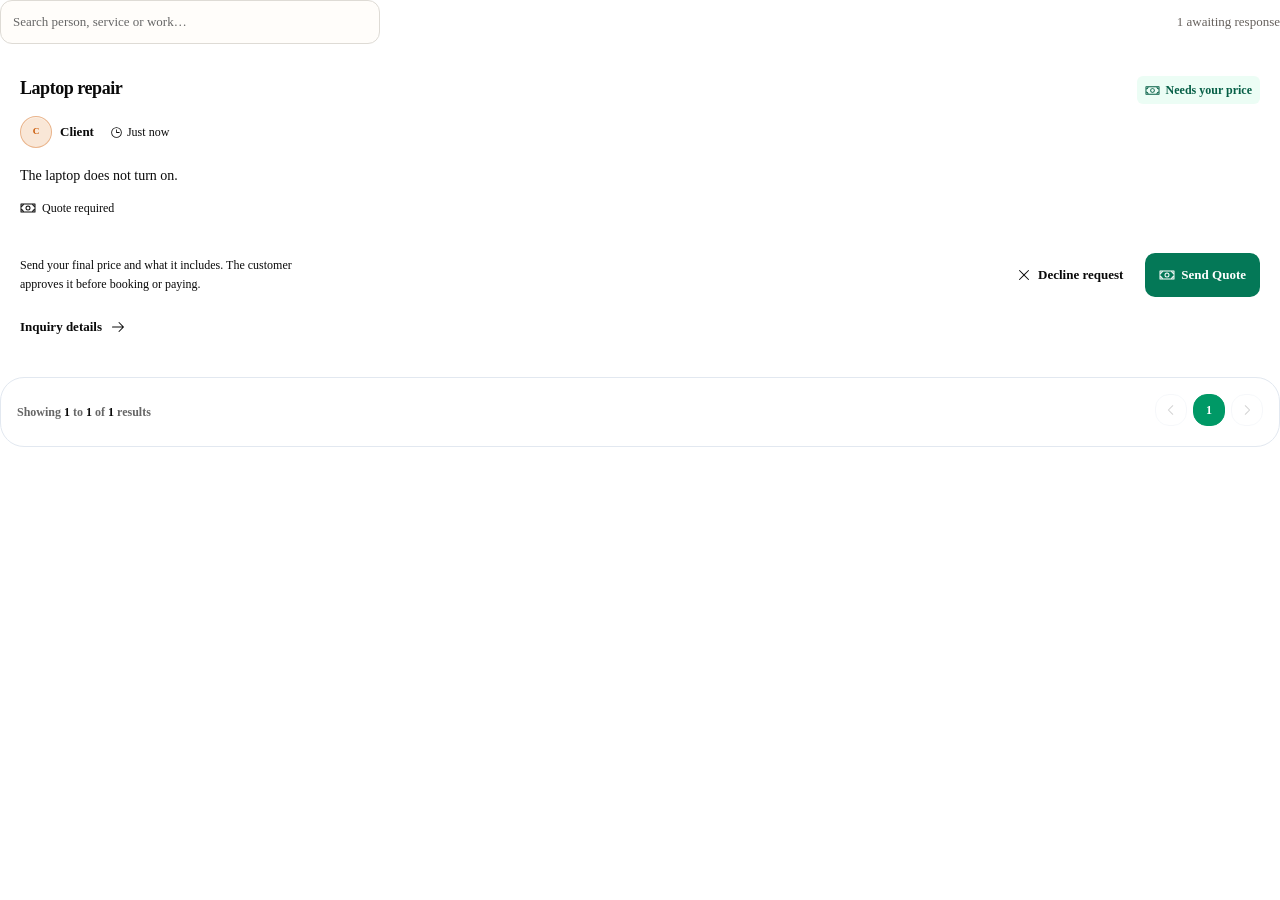
Scenario: provider incoming listing inquiries › sets the final price inside Requests and uses the existing offer action
This screenshot has width=1280, height=900.
Step 1. Click the button "Send Quote" → [1203, 275], box [1145, 253, 1260, 297]
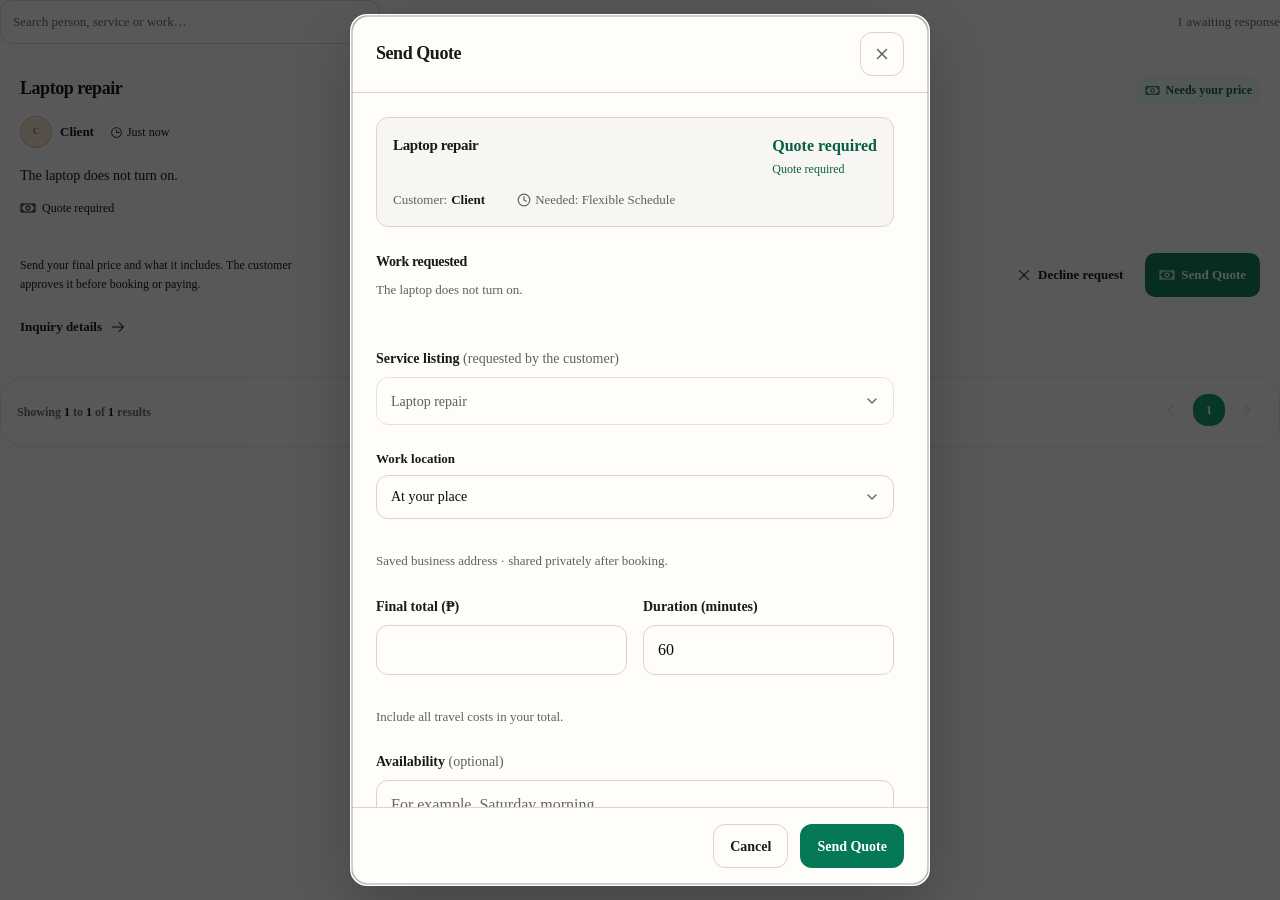
Expected: the dialog "Send Quote" shows "The laptop does not turn on.", [376, 282, 523, 296]
Step 2. Type "1250" into the number field labelled "Final total (₱)" → [502, 650], box [376, 625, 627, 675]
(page scrolled)
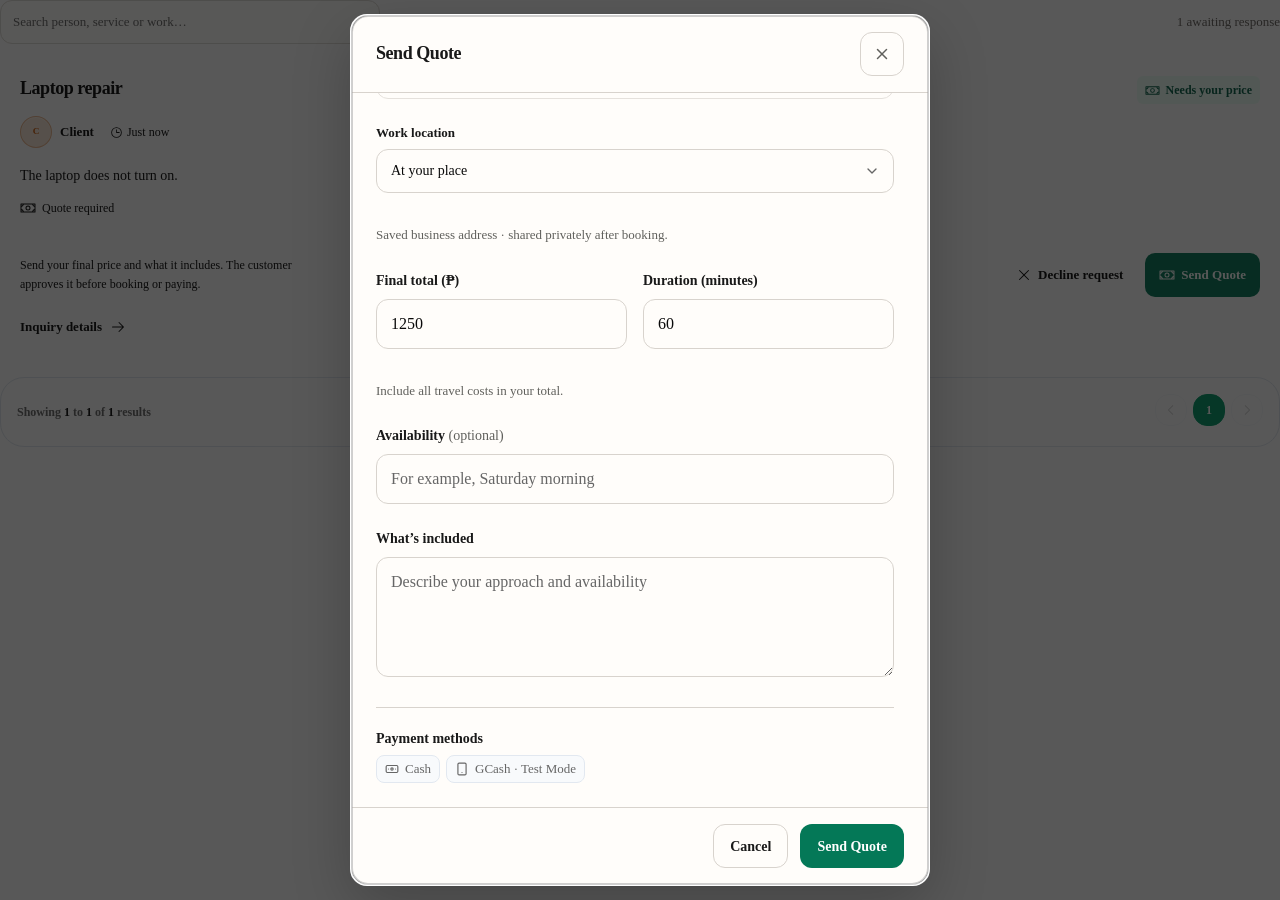
Step 3. Type "Charging port repair, including parts and labor." into the text box labelled "What’s included" → [635, 617], box [376, 557, 894, 677]
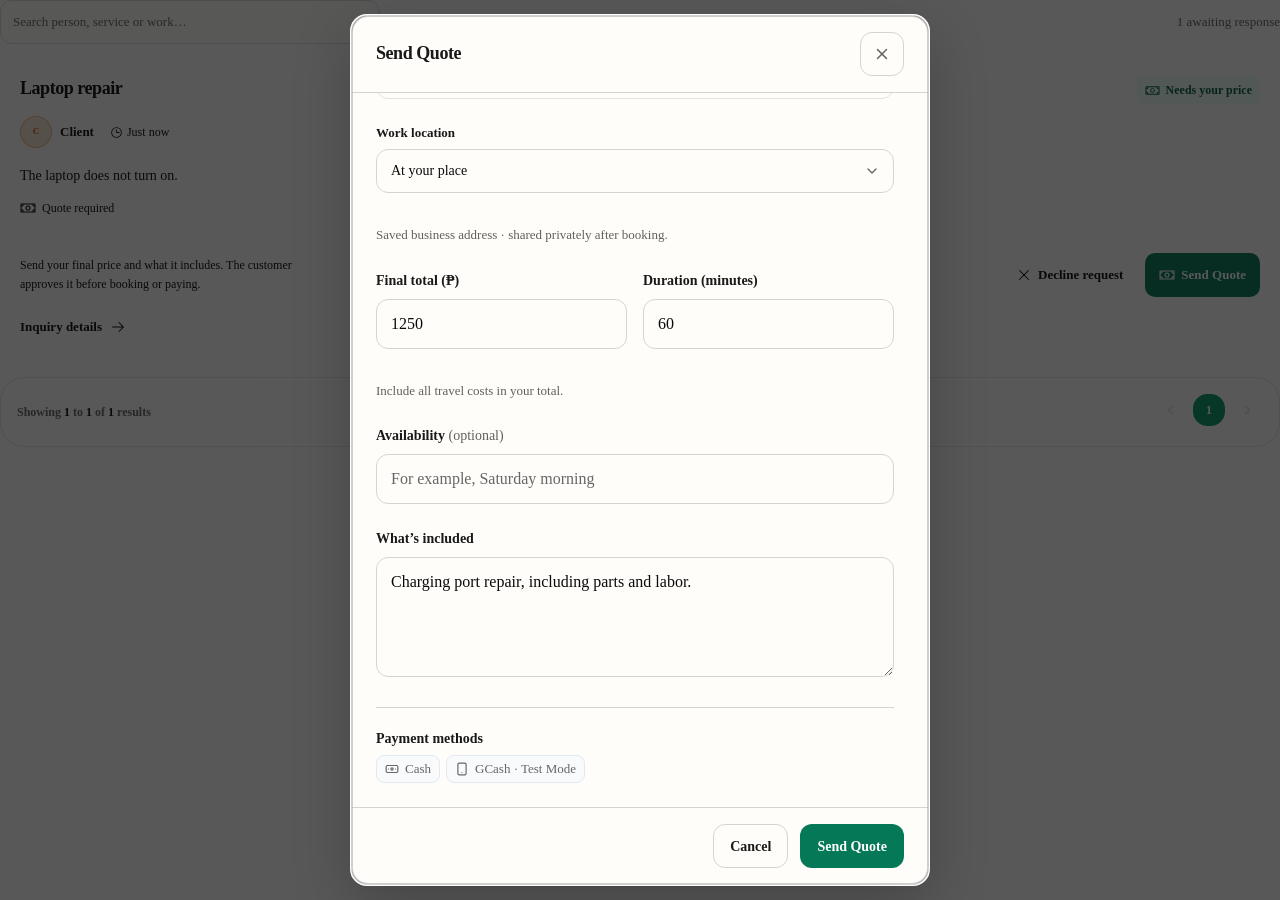
Step 4. Click the button "Send Quote" → [852, 846], box [800, 824, 904, 868]
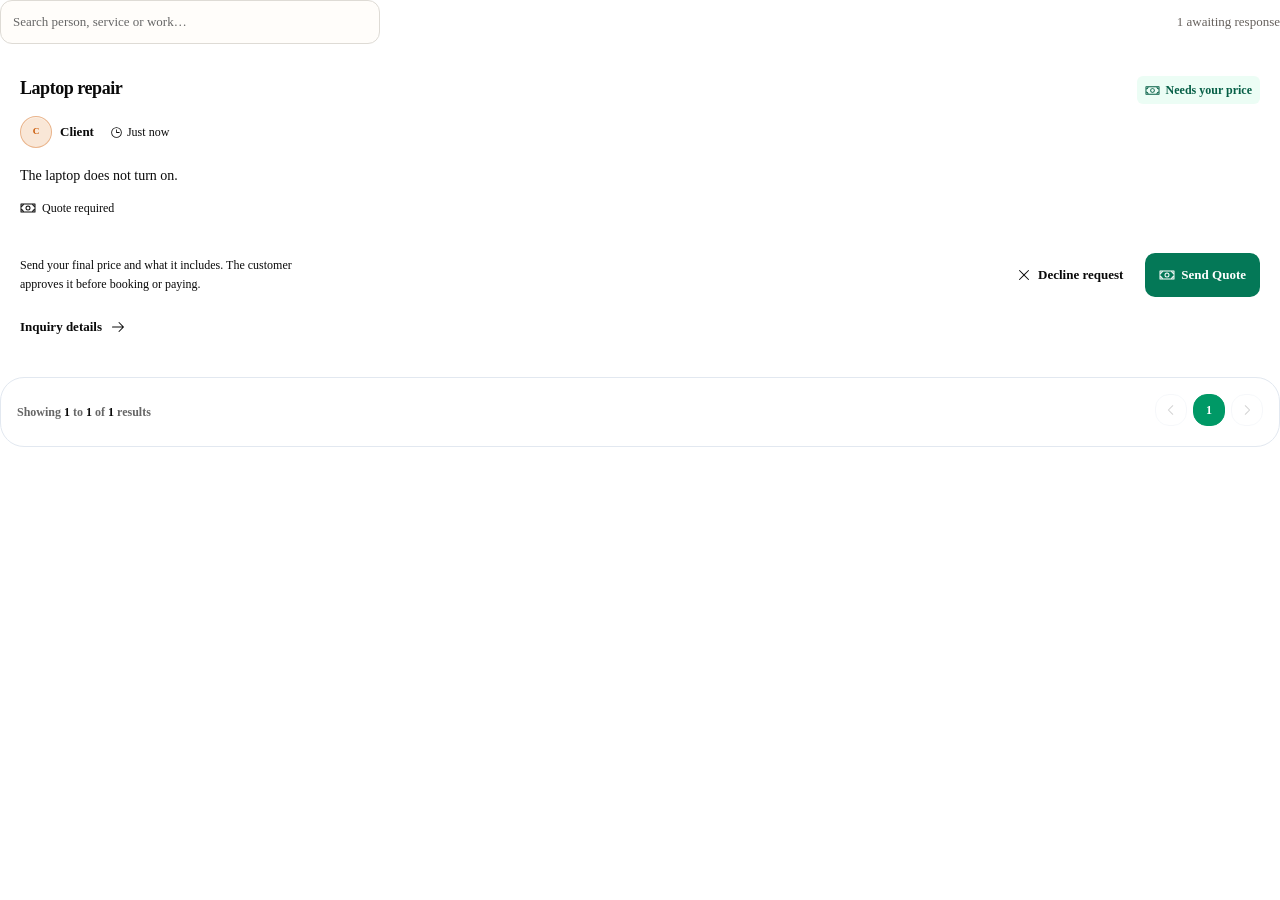
Expected: the dialog is gone
